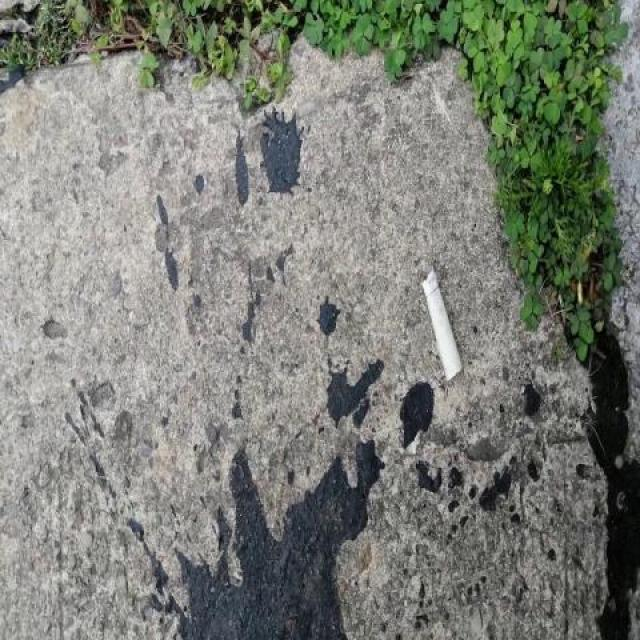non-organic waste: (416, 262, 465, 386)
